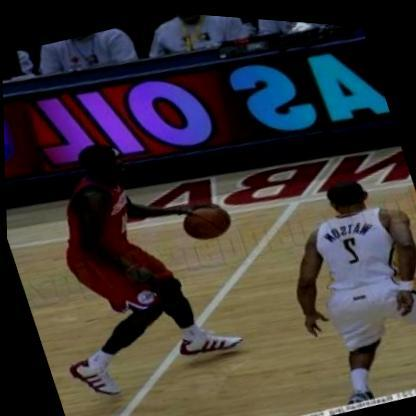basketball: (169, 187, 240, 251)
